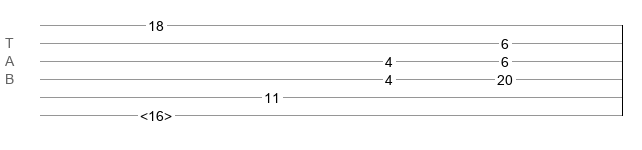11: (264, 90, 280, 100)
18: (148, 18, 164, 28)
20: (497, 72, 513, 82)
4: (385, 54, 393, 64), (385, 72, 393, 82)
6: (501, 36, 509, 46), (501, 54, 509, 64)
harmonic: (140, 108, 172, 118)
